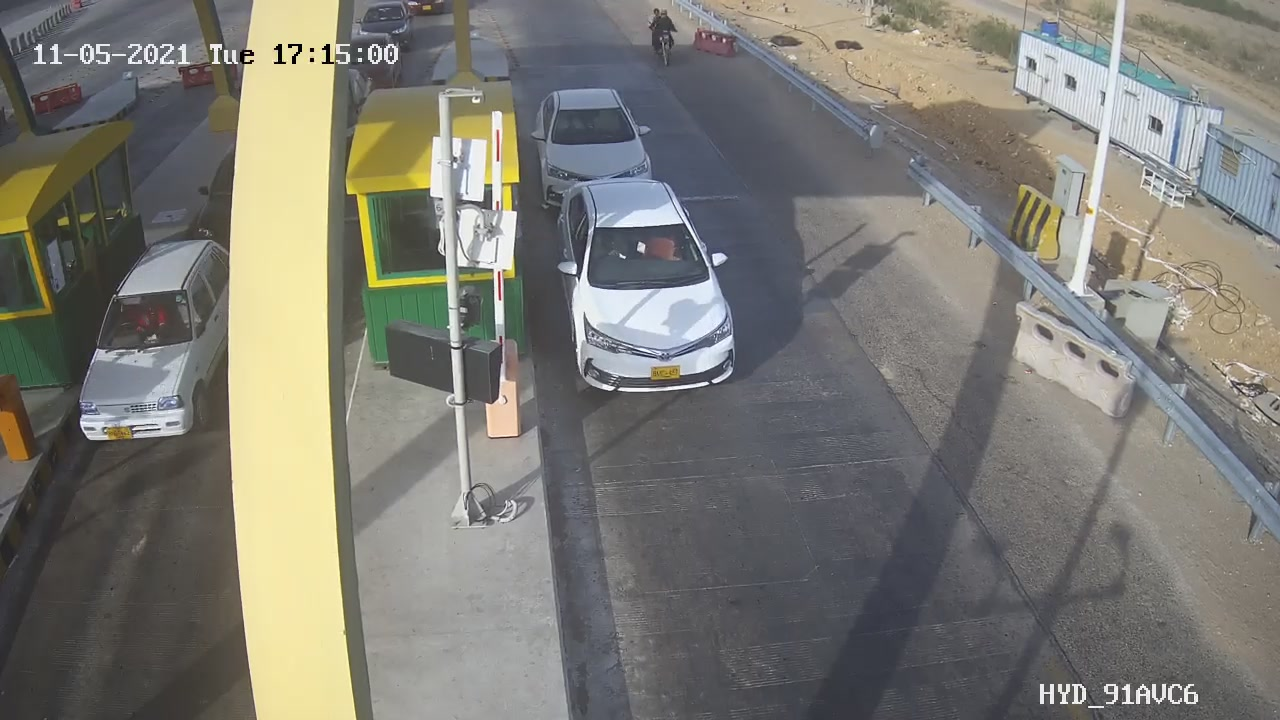F1: (543, 166, 765, 425), (517, 75, 676, 226)
